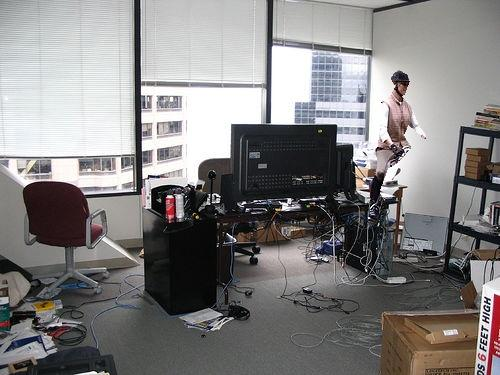tampered: (369, 71, 426, 225)
